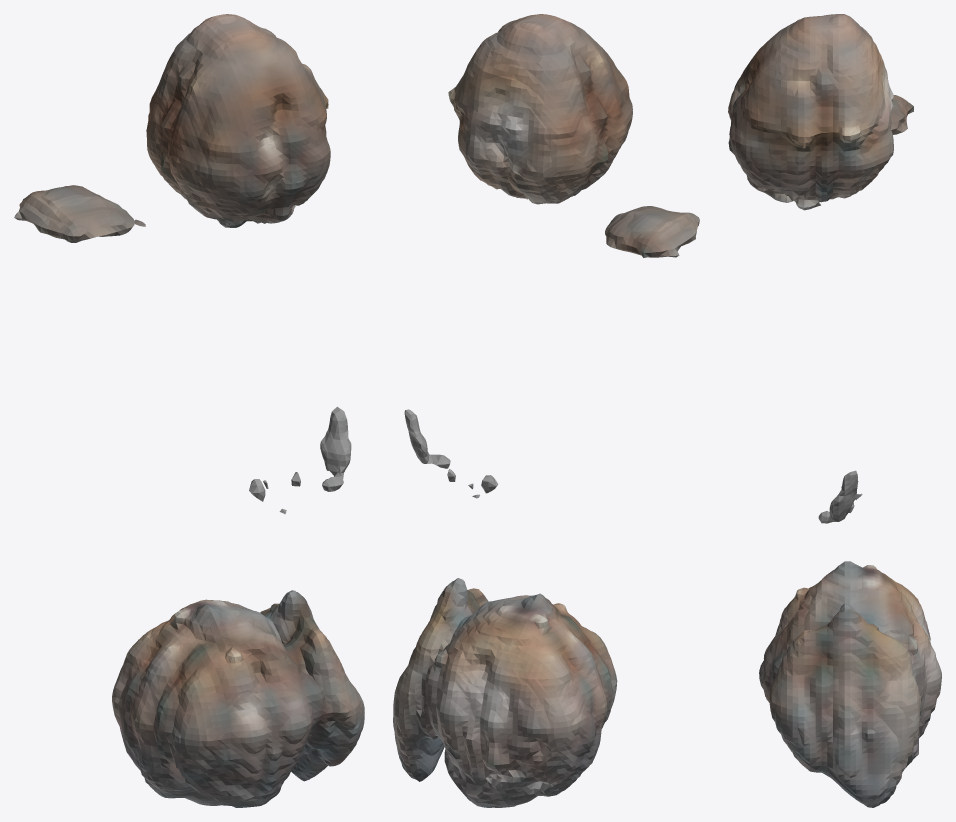
File: threedmodel.glb
3 renders of one model, left to right at view 1: azimuth 30°, elevation 25°; view 2: azimuth 150°, elevation 25°; view 3: azimuth 270°, elevation 25°, orthographic. The views are drawn at different scales.
Parts seen in each view (by area): view 1: world; view 2: world; view 3: world.
Boxes of the visible parts, box(x1,y1,x2,y2) form: world: box(14, 14, 364, 807); world: box(393, 14, 699, 807); world: box(728, 14, 941, 807).
Size of the model in its own units: 0.3931 by 0.9778 by 0.2528.
